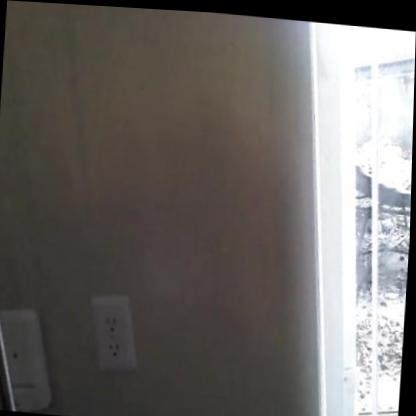OUTLET: (88, 293, 137, 372)
